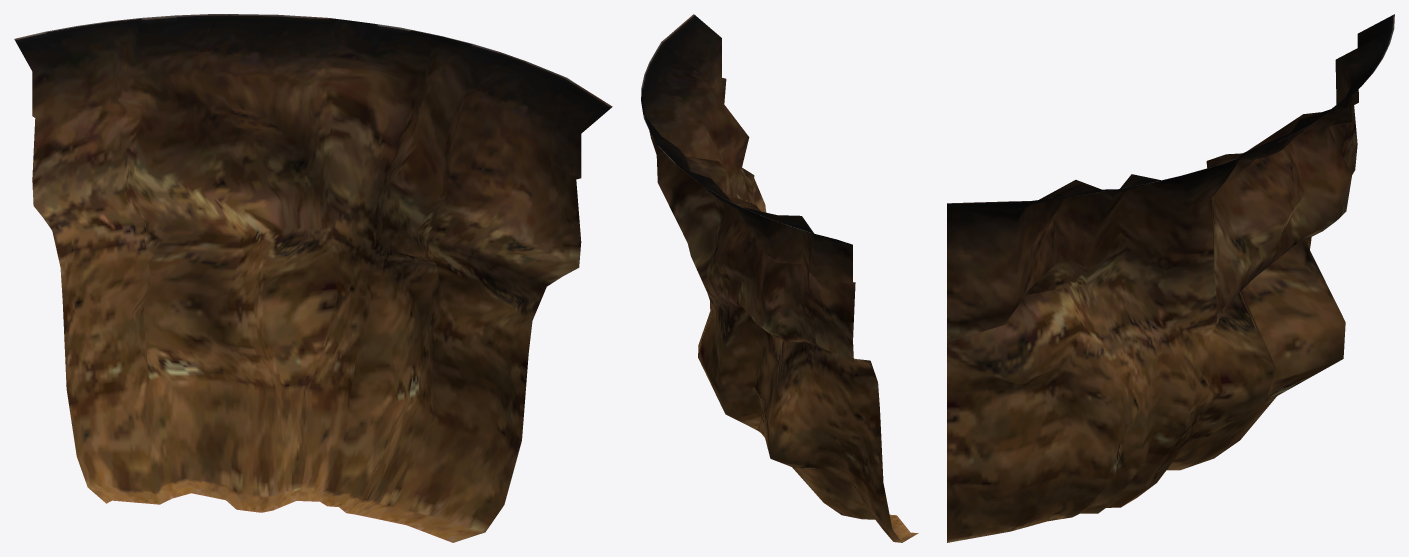
The model's file is tunnelCornerB.fbx.
The picture shows the model from 3 angles, left to right: view 1: azimuth 30°, elevation 25°; view 2: azimuth 150°, elevation 25°; view 3: azimuth 270°, elevation 25°; orthographic projection. The views are drawn at different scales.
Visible parts, largest first — view 1: tunnelCornerB; view 2: tunnelCornerB; view 3: tunnelCornerB.
Part boxes in pixels (left/top/right/bottom): tunnelCornerB: left=14, top=14, right=612, bottom=542; tunnelCornerB: left=641, top=14, right=918, bottom=542; tunnelCornerB: left=947, top=14, right=1394, bottom=542.
Size of the model in its own units: 300 by 300 by 300.
